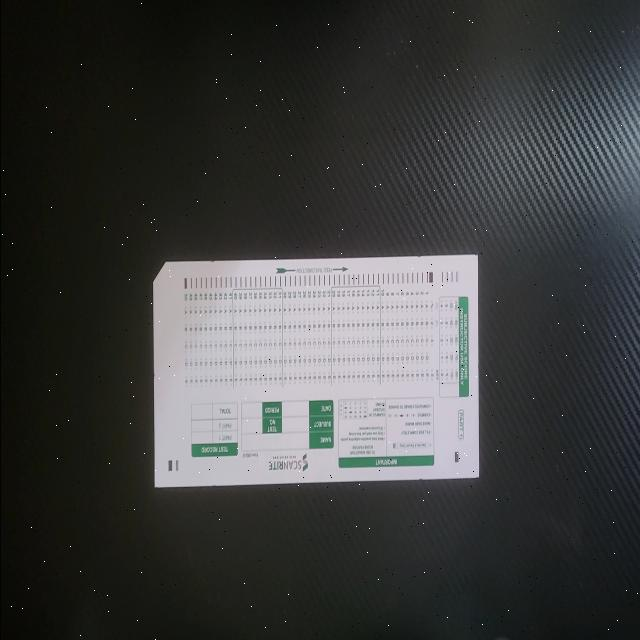scantron: (153, 255, 479, 487)
